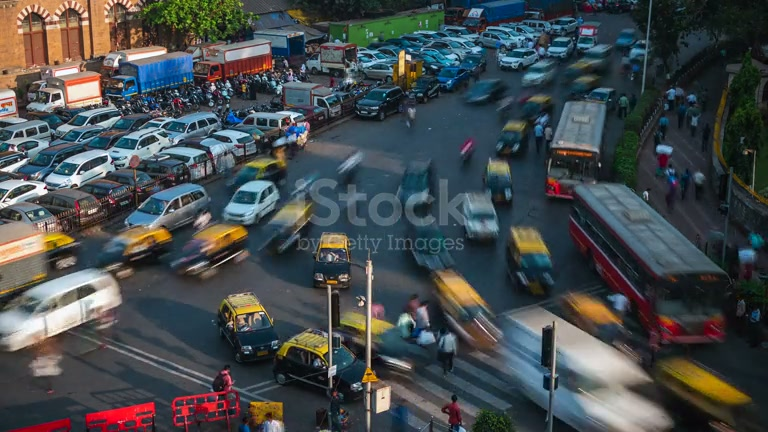bus: (565, 181, 734, 348), (544, 97, 613, 200)
car: (0, 266, 124, 355), (272, 328, 367, 400), (429, 267, 504, 352), (213, 291, 281, 364), (167, 222, 251, 280), (124, 181, 213, 232), (504, 224, 557, 297), (257, 196, 315, 258), (22, 187, 106, 228), (96, 224, 173, 267), (143, 143, 218, 184), (41, 148, 114, 190), (447, 190, 501, 245), (170, 390, 242, 431), (221, 179, 282, 226), (311, 232, 353, 289), (107, 131, 164, 169), (77, 179, 134, 215), (186, 136, 236, 176), (354, 85, 408, 120), (208, 127, 260, 160), (483, 157, 515, 206)
pedestrian: (437, 328, 457, 375), (442, 395, 466, 432)
